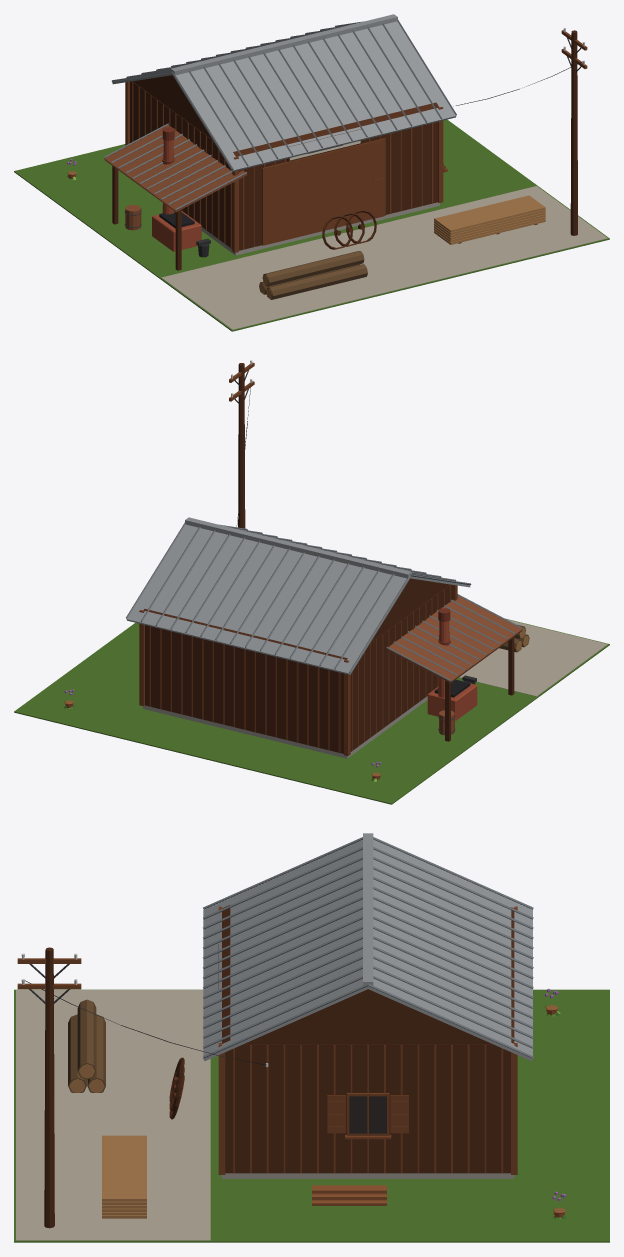
Rendered from factory_1.glb.
3 renders of one model, top to bottom at view 1: azimuth 30°, elevation 25°; view 2: azimuth 150°, elevation 25°; view 3: azimuth 270°, elevation 25°, orthographic. The views are drawn at different scales.
Parts seen in each view (by area): view 1: body; view 2: body; view 3: body, windows.
Part boxes in pixels (box(x1,y1,x2,y2)): body: box(14, 14, 609, 331); body: box(14, 360, 609, 804); body: box(14, 833, 609, 1242); windows: box(349, 1096, 386, 1133).
Size of the model in its own units: 15.9 by 8.44 by 15.9.
